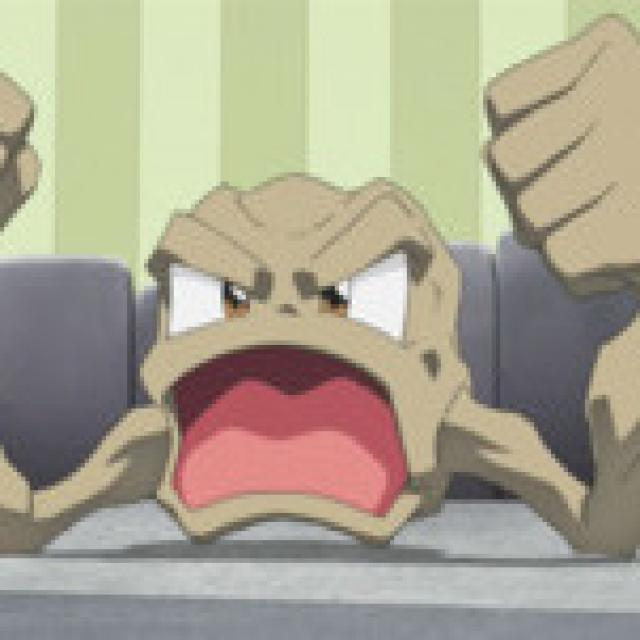Geodude: (128, 173, 510, 563)
